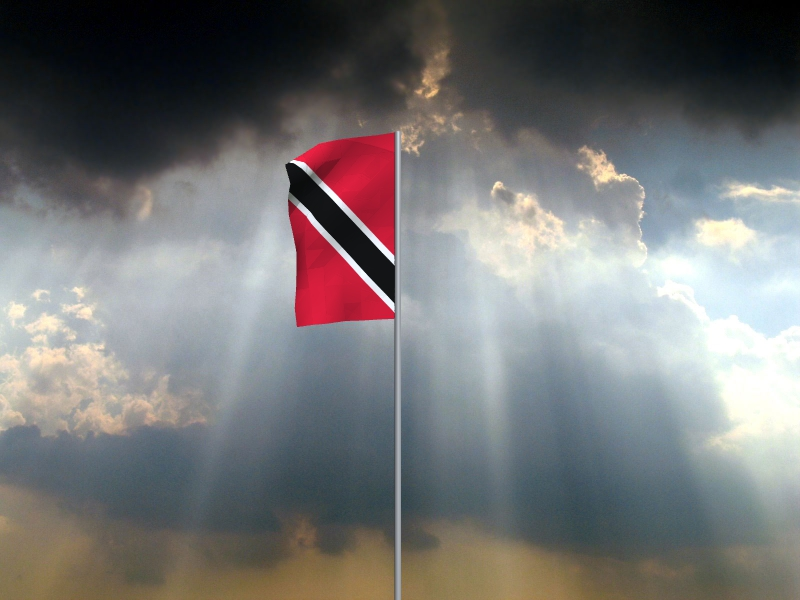tt: (285, 133, 395, 329)
